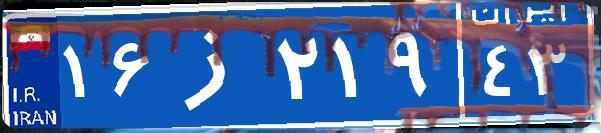1: (330, 28, 385, 110), (57, 26, 110, 107)
2: (273, 28, 330, 110)
3: (525, 38, 570, 115)
4: (475, 38, 525, 113)
6: (110, 28, 158, 105)
9: (385, 28, 445, 110)
ز: (158, 15, 273, 115)
